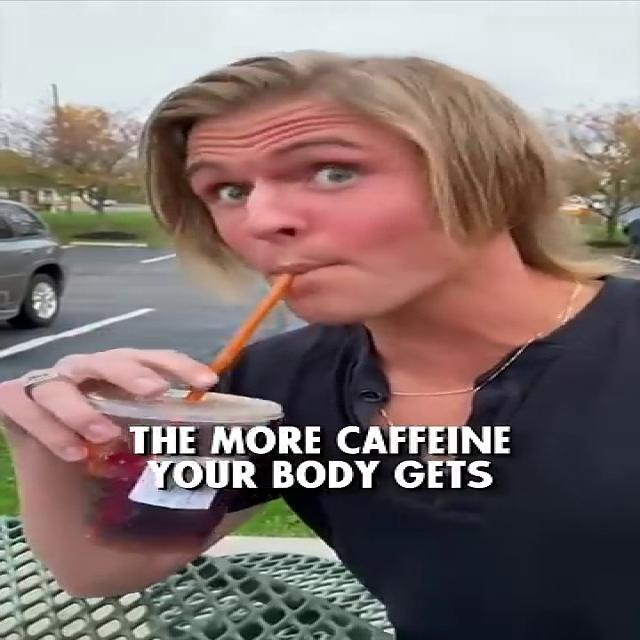Cup: (76, 275, 299, 553)
Hand: (0, 338, 224, 459)
Mouth: (258, 260, 354, 290)
